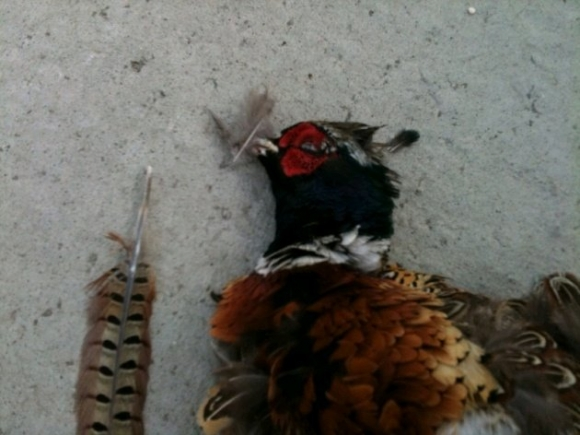pheasant: (195, 98, 559, 423)
